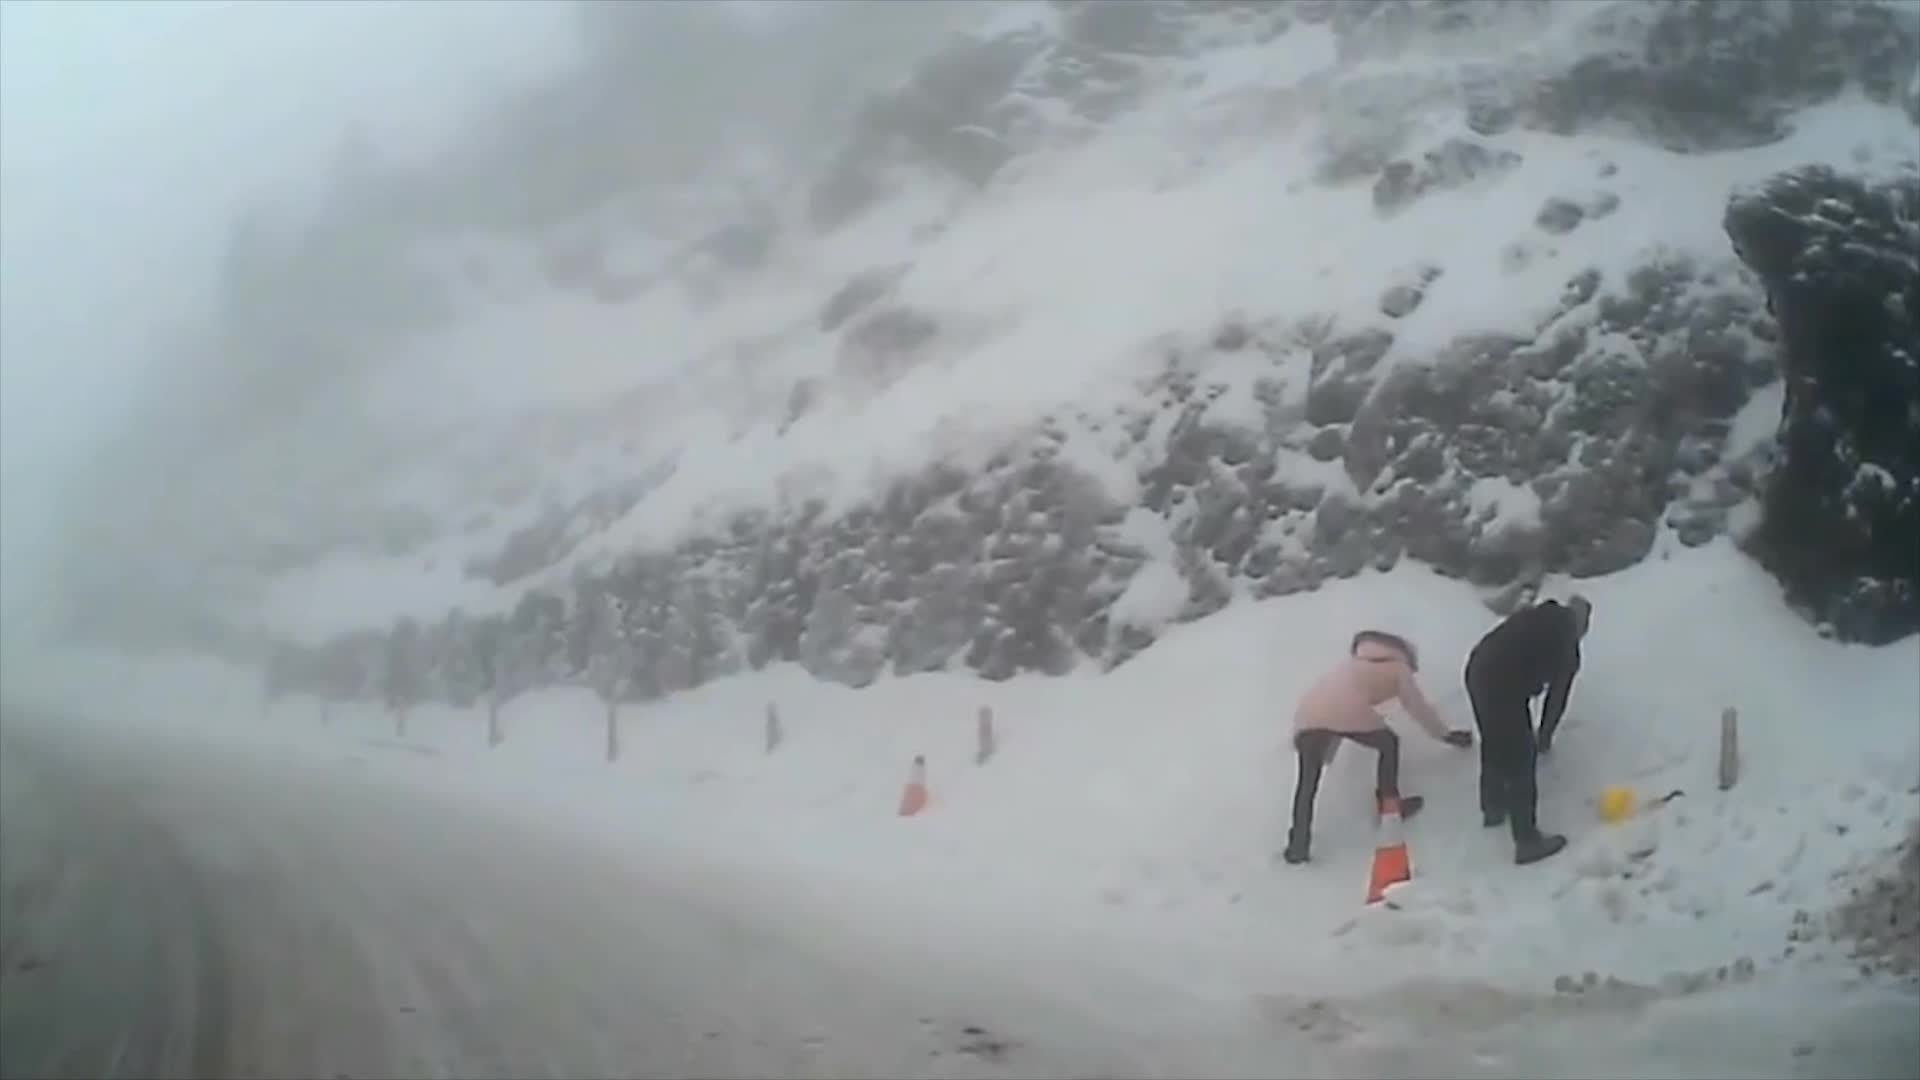pedestrian: (1287, 631, 1473, 864), (1466, 591, 1598, 861)
